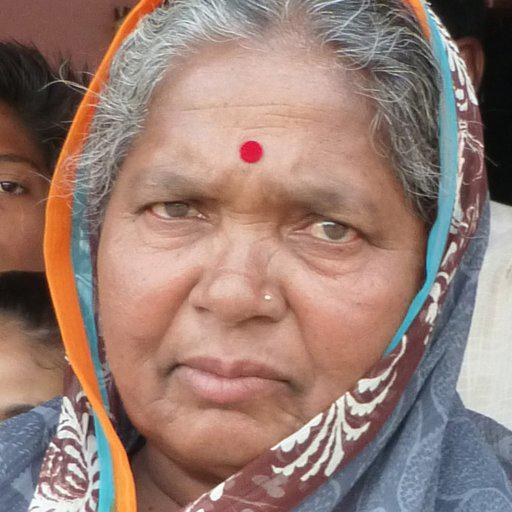Sober: (108, 59, 413, 429)
